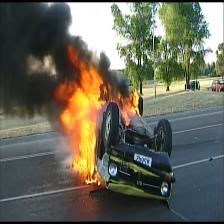fire: (50, 34, 152, 209)
smoke: (0, 0, 65, 150)
